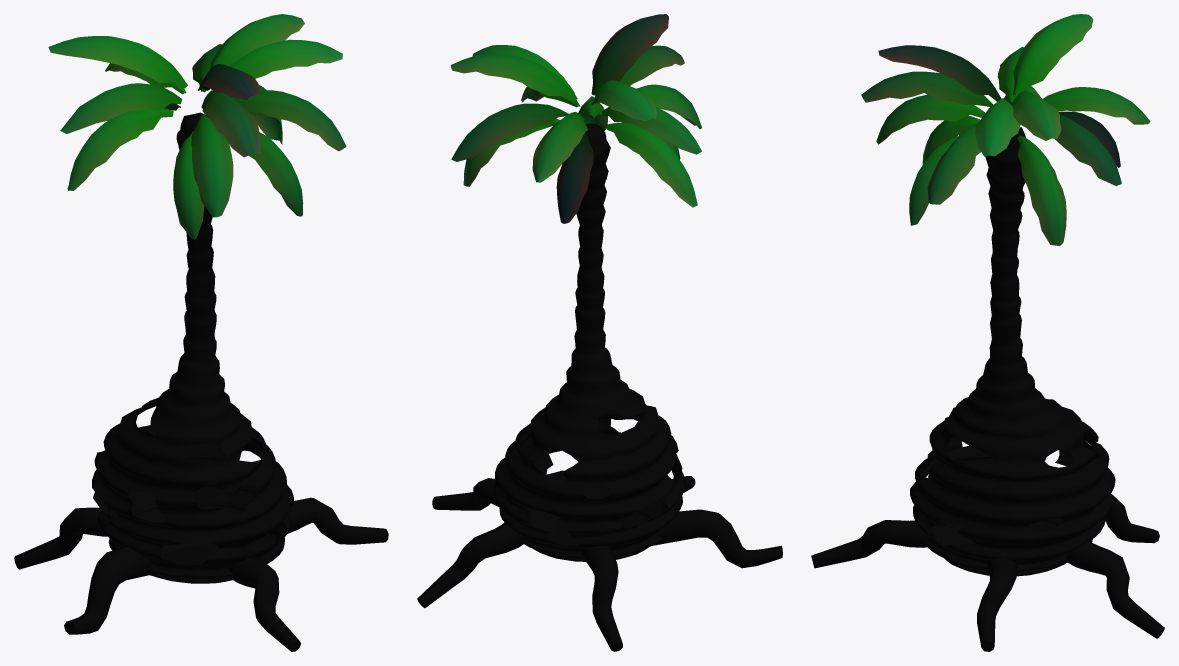
The model's file is SM_Tree1Biome2.fbx.
3 renders of one model, left to right at view 1: azimuth 30°, elevation 25°; view 2: azimuth 150°, elevation 25°; view 3: azimuth 270°, elevation 25°, orthographic. The views are drawn at different scales.
Visible parts, largest first — view 1: polySurface4; view 2: polySurface4; view 3: polySurface4.
Boxes of the visible parts, left/top/right/bottom form: polySurface4: left=14, top=14, right=388, bottom=651; polySurface4: left=417, top=14, right=782, bottom=651; polySurface4: left=811, top=14, right=1164, bottom=651.
Bounding box in the file's own units: 635 × 987 × 584.
